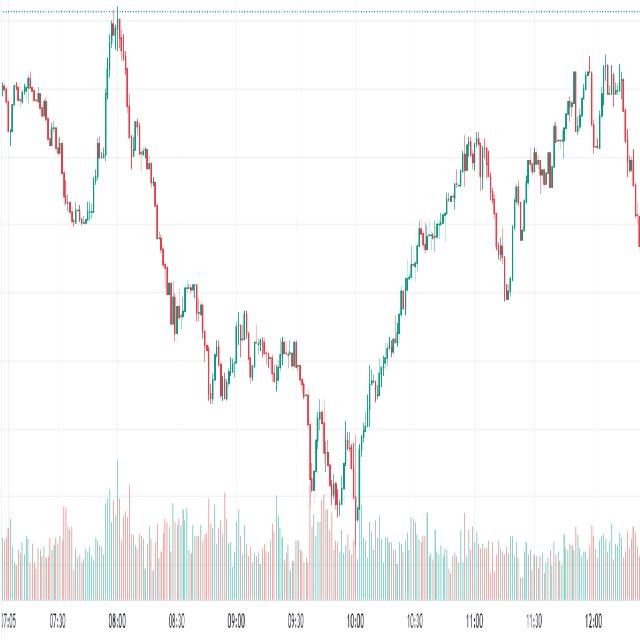Double-Bottom: (200, 315, 240, 415)
Head-Shoulders: (82, 2, 165, 262)
Rising-Wedge: (480, 49, 599, 335)
